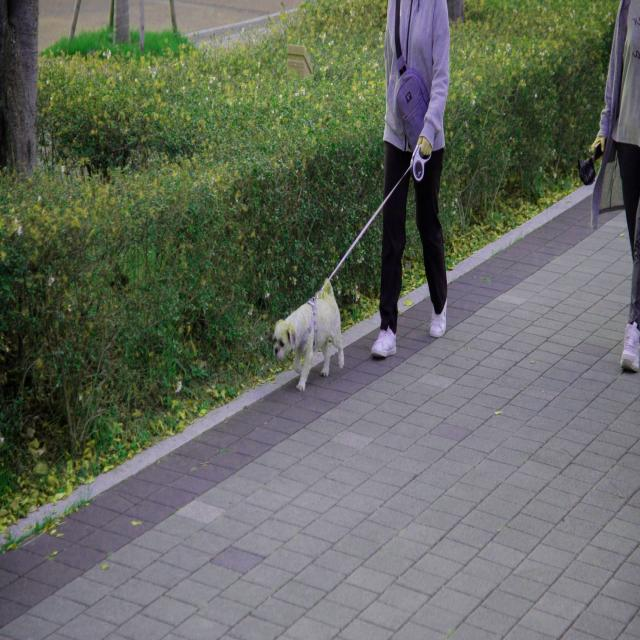Leashed_Dog: (272, 125, 425, 392)
